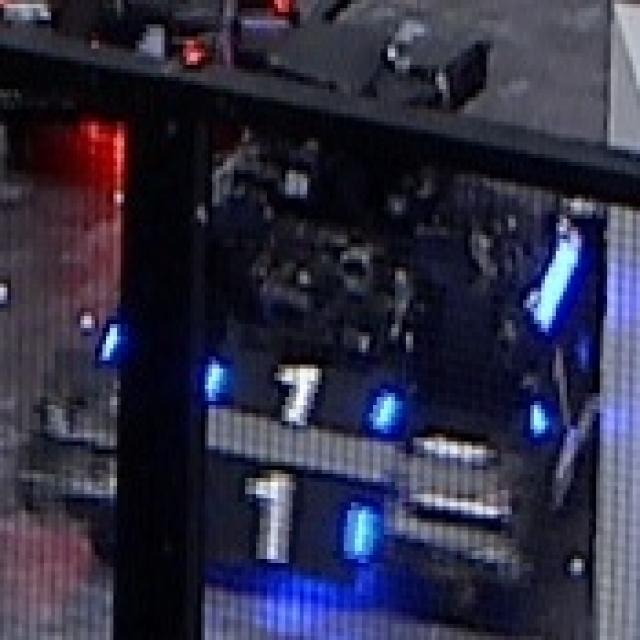B1: (201, 356, 399, 434), (526, 336, 592, 438)
